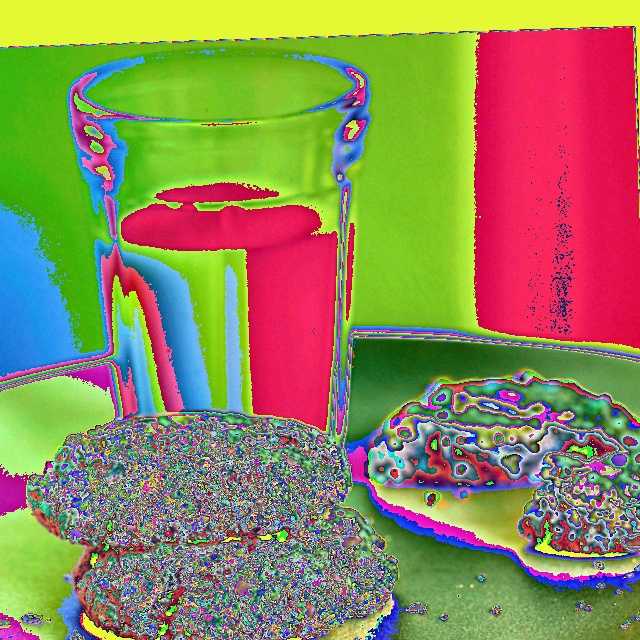background: (25, 173, 400, 639), (272, 192, 639, 557)
